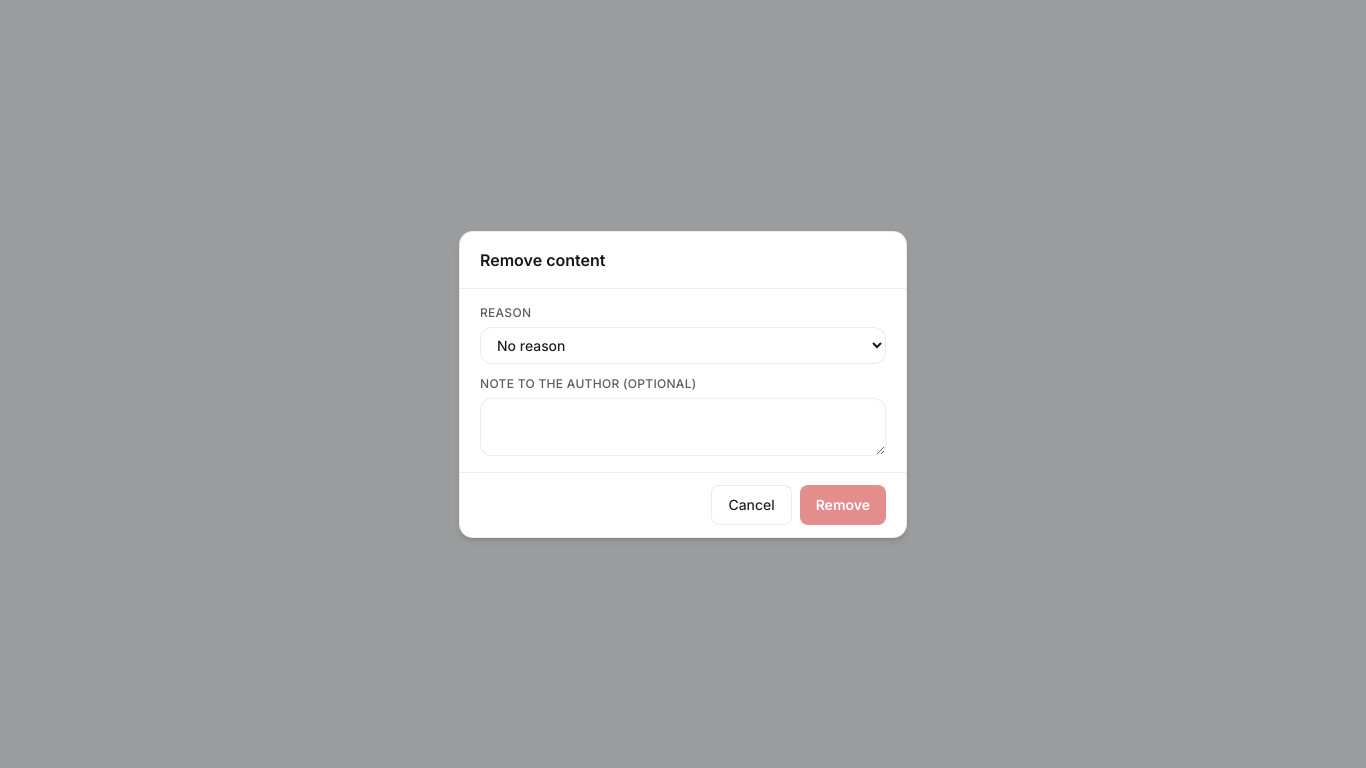
Scenario: blocks removal until a reason is chosen when one is required
expect the button "Remove" is disabled: met, box [800,484,886,524]
Select "Spam" in the dropdown labelled "Reason" at (683, 345), box [480,326,886,364]
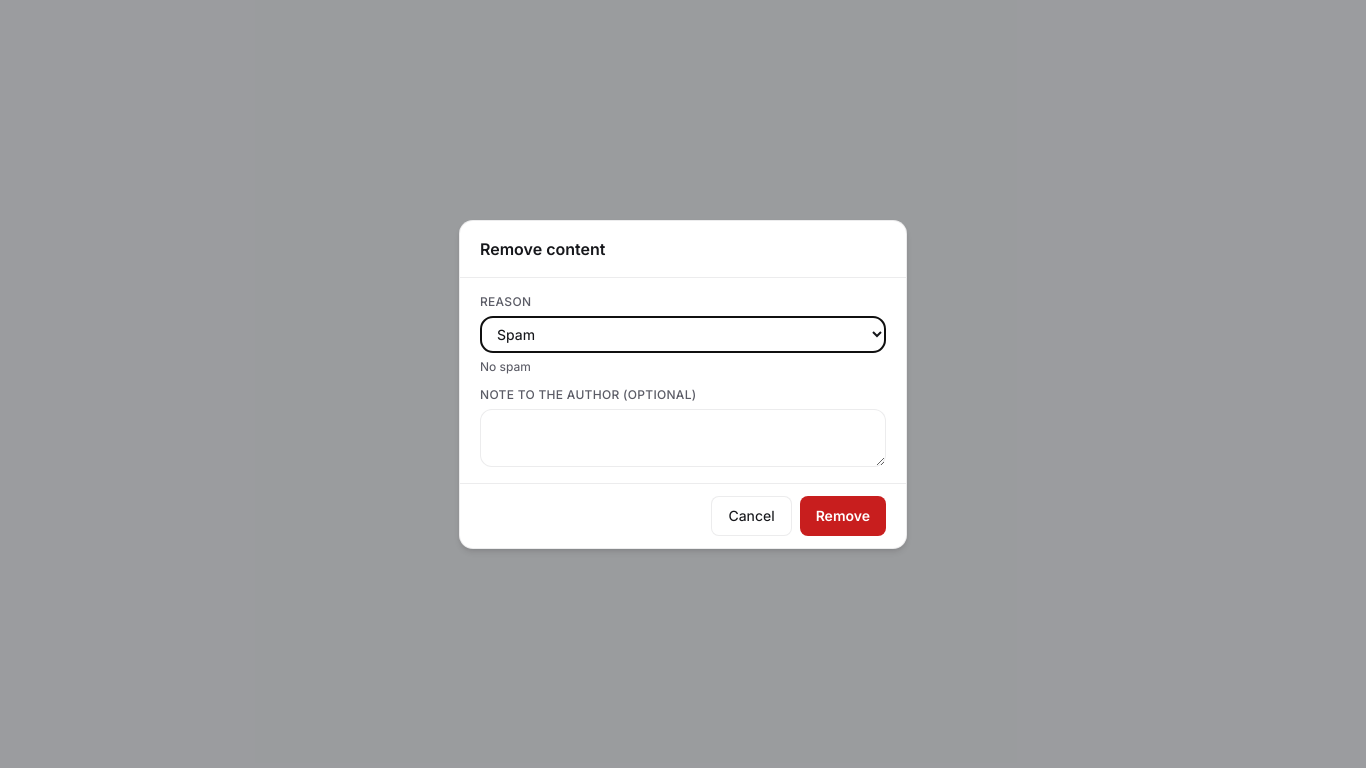
expect the button "Remove" is enabled: met, box [800,496,886,536]
